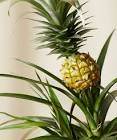Pineapple: (7, 1, 99, 91)
